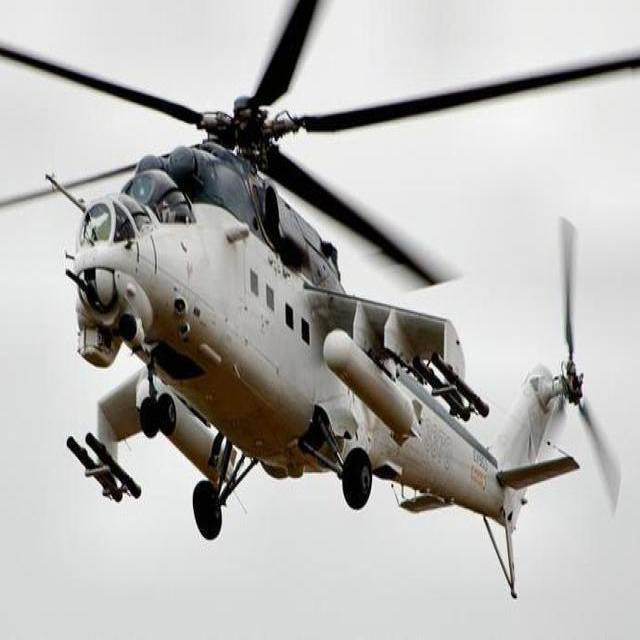MIL_HELO: (3, 14, 640, 607)
